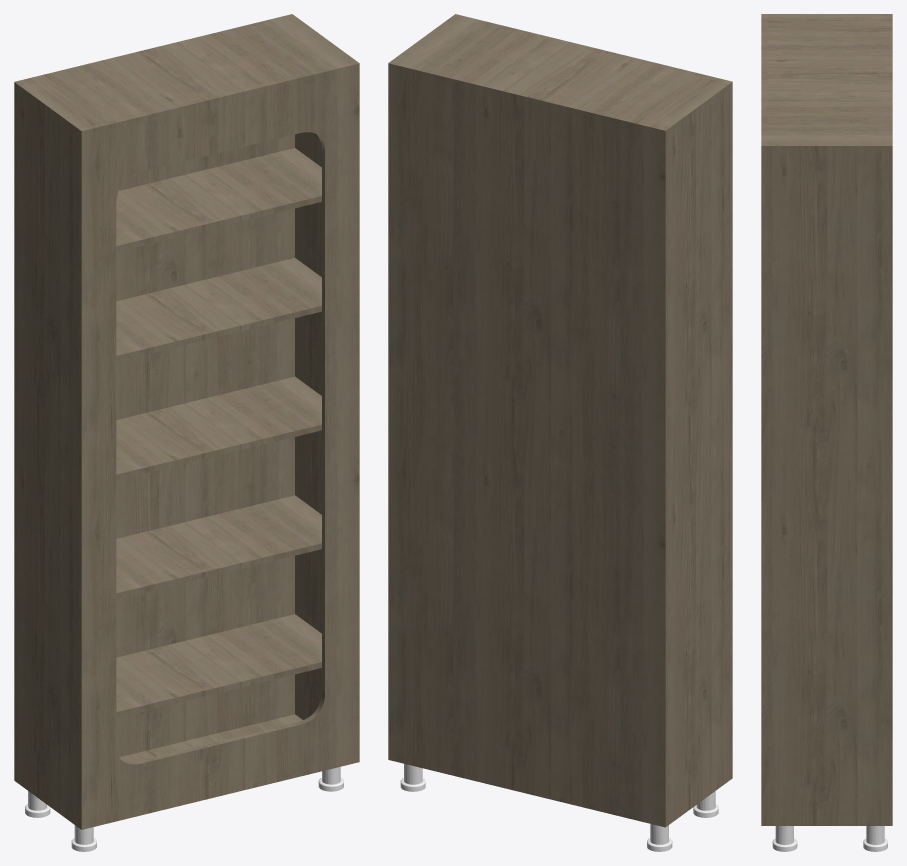
The picture shows the model from 3 angles, left to right: view 1: azimuth 30°, elevation 25°; view 2: azimuth 150°, elevation 25°; view 3: azimuth 270°, elevation 25°; orthographic projection. The views are drawn at different scales.
Parts seen in each view (by area): view 1: Box001, Box021, Box016, Box017, Box018, Box019, Box020; view 2: Box001, Box021; view 3: Box001, Box021, Cylinder005, Cylinder004.
Boxes of the visible parts, box(x1,y1,x2,y2) form: Box001: box(14, 14, 355, 826); Box021: box(78, 61, 359, 829); Box016: box(116, 614, 321, 717); Box017: box(116, 495, 321, 599); Box018: box(116, 376, 321, 480); Box019: box(116, 258, 321, 361); Box020: box(116, 148, 321, 251); Box001: box(388, 16, 729, 827); Box021: box(452, 14, 732, 779); Box001: box(767, 14, 892, 825); Box021: box(761, 14, 767, 825); Cylinder005: box(772, 826, 797, 851); Cylinder004: box(863, 826, 887, 851).
Bounding box in the file's own units: 1 × 2.5 × 0.4201.
2 materials, 1 textured.
